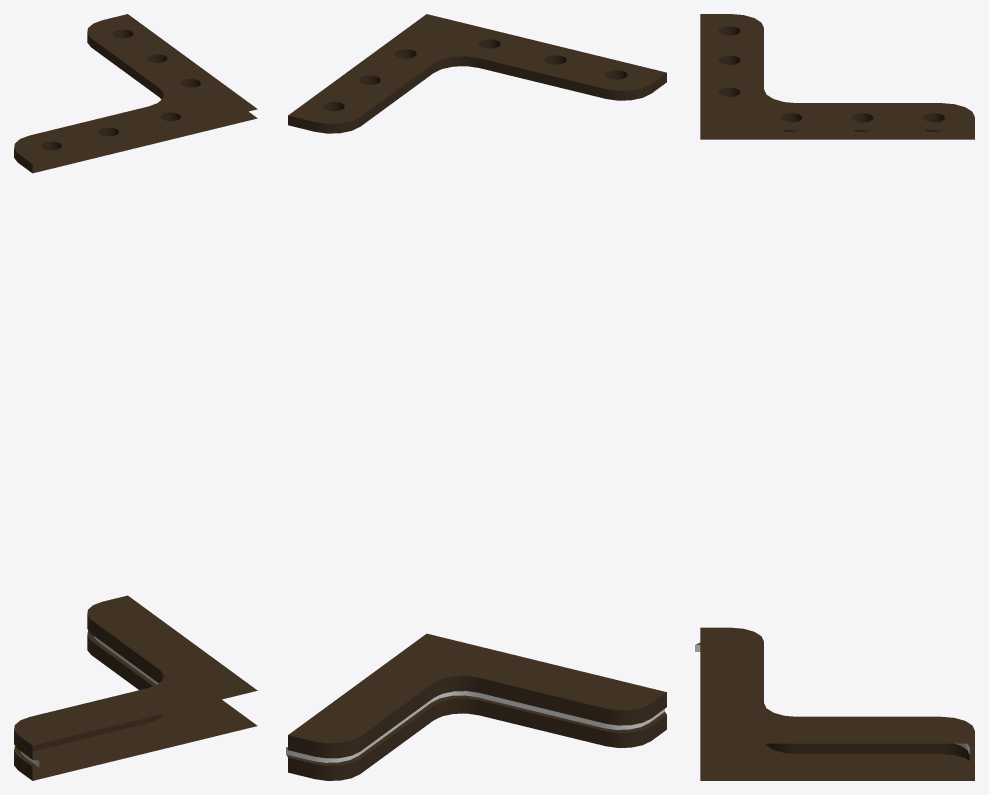
File: CueRack.fbx
3 views of the same model, side by side, from view 1: azimuth 30°, elevation 25°; view 2: azimuth 150°, elevation 25°; view 3: azimuth 270°, elevation 25° (orthographic). The views are drawn at different scales.
Visible parts, largest first — view 1: CueRack; view 2: CueRack; view 3: CueRack.
Boxes of the visible parts, x1,y1,x2,y2 form: CueRack: (14, 14, 257, 780); CueRack: (286, 14, 666, 780); CueRack: (695, 14, 974, 780).
Size of the model in its own units: 3980 by 3980 by 10217.
